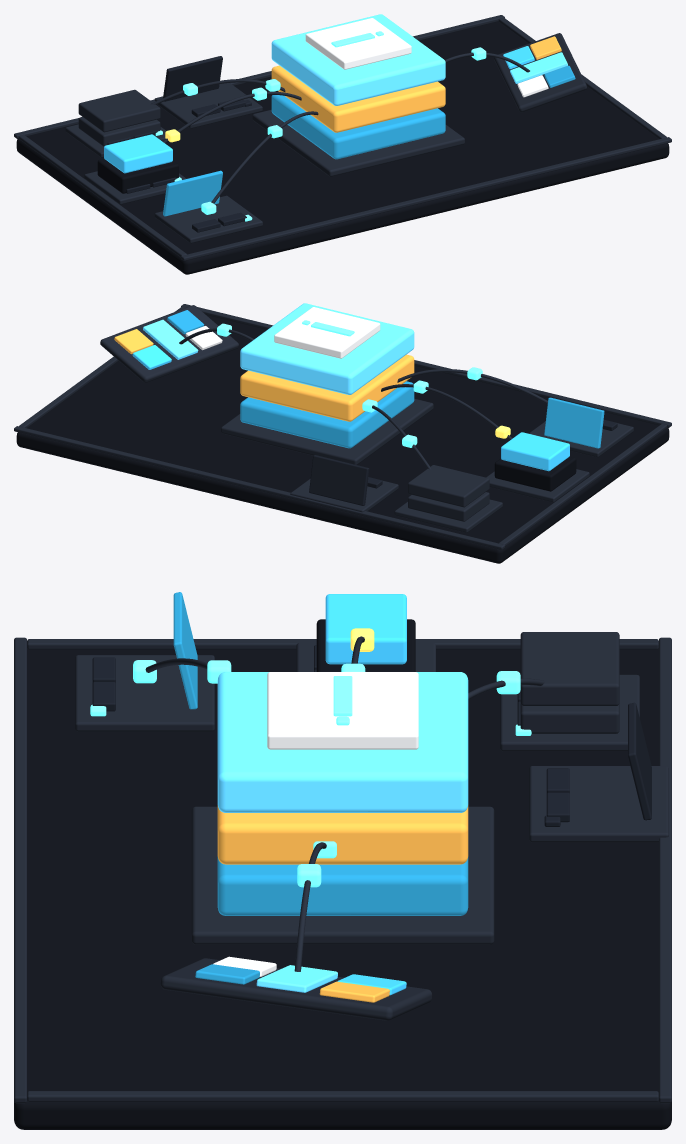
Rendered from hub.glb.
3 renders of one model, top to bottom at view 1: azimuth 30°, elevation 25°; view 2: azimuth 150°, elevation 25°; view 3: azimuth 270°, elevation 25°, orthographic. The views are drawn at different scales.
Parts seen in each view (by area): view 1: object 1, hub_core, android_surface, device_1, device_0, device_3, device_2, object 2, object 12, object 4, object 3, object 5; view 2: object 1, hub_core, android_surface, device_2, device_1, device_3, device_0, object 3, object 2, object 12, object 4, object 5; view 3: object 1, hub_core, device_2, device_3, device_0, android_surface, device_1, object 5, object 2, object 3, object 4, object 12.
Boxes of the visible parts, left/top/right/bottom form: object 1: left=16, top=21, right=669, bottom=274; hub_core: left=252, top=14, right=464, bottom=176; android_surface: left=494, top=33, right=586, bottom=112; device_1: left=84, top=134, right=186, bottom=204; device_0: left=154, top=170, right=262, bottom=243; device_3: left=154, top=56, right=262, bottom=128; device_2: left=65, top=89, right=168, bottom=157; object 2: left=181, top=137, right=671, bottom=260; object 12: left=150, top=52, right=529, bottom=203; object 4: left=18, top=134, right=186, bottom=257; object 3: left=14, top=15, right=504, bottom=138; object 5: left=498, top=17, right=666, bottom=139; object 1: left=16, top=315, right=669, bottom=563; hub_core: left=221, top=303, right=433, bottom=464; android_surface: left=100, top=305, right=238, bottom=382; device_2: left=394, top=465, right=502, bottom=532; device_1: left=486, top=432, right=589, bottom=502; device_3: left=290, top=455, right=398, bottom=512; device_0: left=529, top=397, right=633, bottom=457; object 3: left=14, top=426, right=504, bottom=549; object 2: left=181, top=304, right=671, bottom=427; object 12: left=179, top=328, right=547, bottom=469; object 4: left=499, top=423, right=667, bottom=546; object 5: left=19, top=306, right=185, bottom=428; object 1: left=14, top=648, right=671, bottom=1129; hub_core: left=191, top=672, right=494, bottom=944; device_2: left=500, top=632, right=639, bottom=751; device_3: left=529, top=702, right=668, bottom=842; device_0: left=75, top=592, right=214, bottom=731; android_surface: left=160, top=956, right=432, bottom=1020; device_1: left=296, top=594, right=435, bottom=671; object 5: left=27, top=1091, right=658, bottom=1101; object 2: left=14, top=637, right=26, bottom=1103; object 3: left=659, top=637, right=671, bottom=1103; object 4: left=27, top=639, right=658, bottom=649; object 12: left=145, top=636, right=544, bottom=971.
Bounding box in the file's own units: 3.74 × 0.8349 × 2.26.
